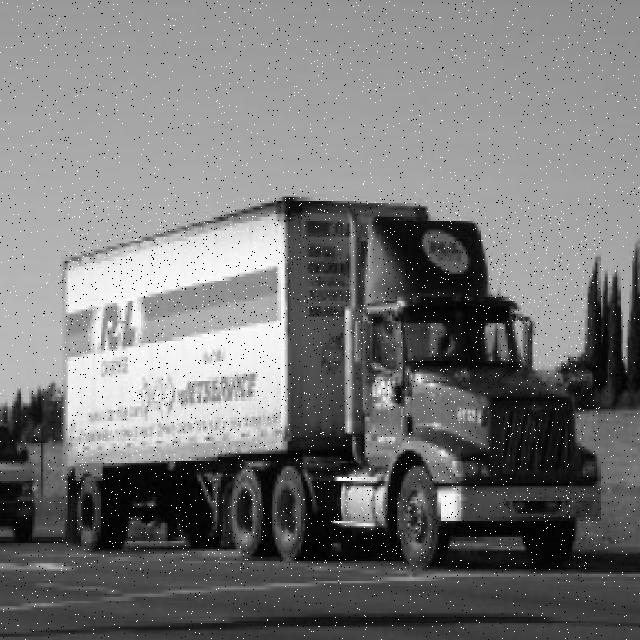Box Truck: (61, 198, 601, 571)
